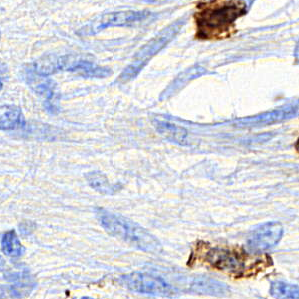Lymphocyte: (188, 238, 274, 282)
